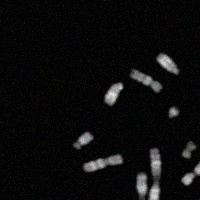chromosome: (129, 68, 162, 93), (147, 148, 162, 200), (82, 153, 122, 172), (156, 51, 180, 76), (180, 155, 200, 185), (104, 83, 123, 106), (73, 131, 94, 150), (135, 171, 148, 200), (181, 140, 197, 157), (167, 105, 179, 120), (191, 197, 200, 200)
